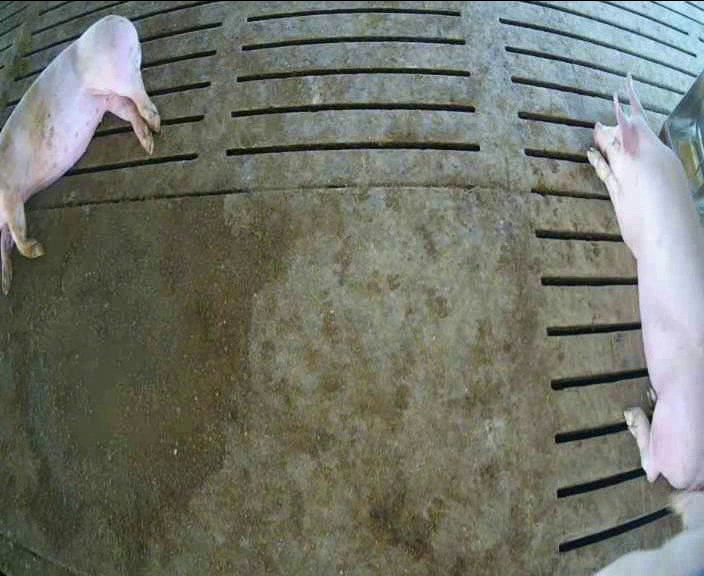pig: (0, 16, 159, 294)
